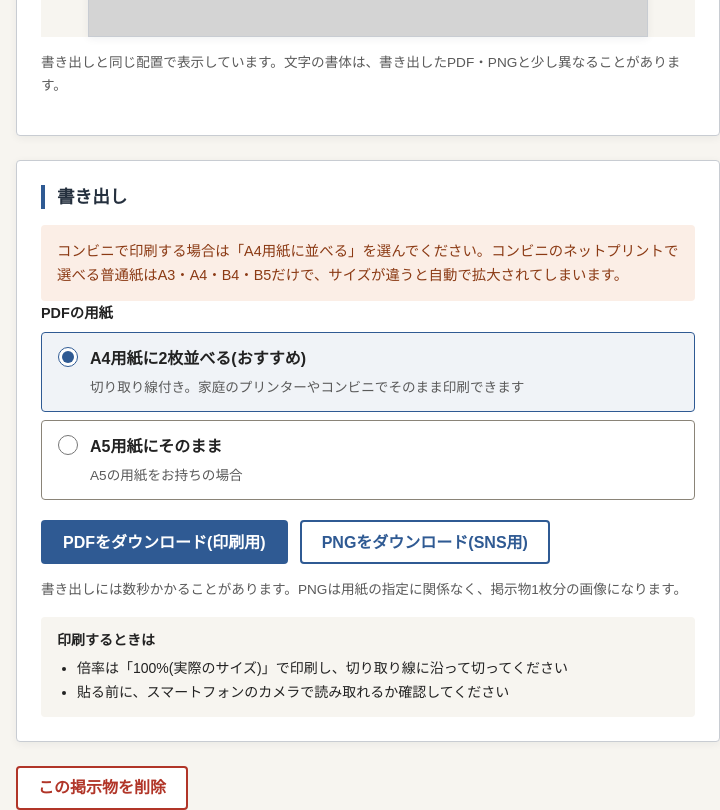
Test case: PosterEditorPage: 編集と書き出し › 書き出しに失敗した場合(429など)は、サーバーのエラー文言を表示する
The width and height of the screenshot is (720, 810).
(page scrolled)
Click the button "PDFをダウンロード(印刷用)" at (164, 542), box x1=41 y1=520 x2=288 y2=564
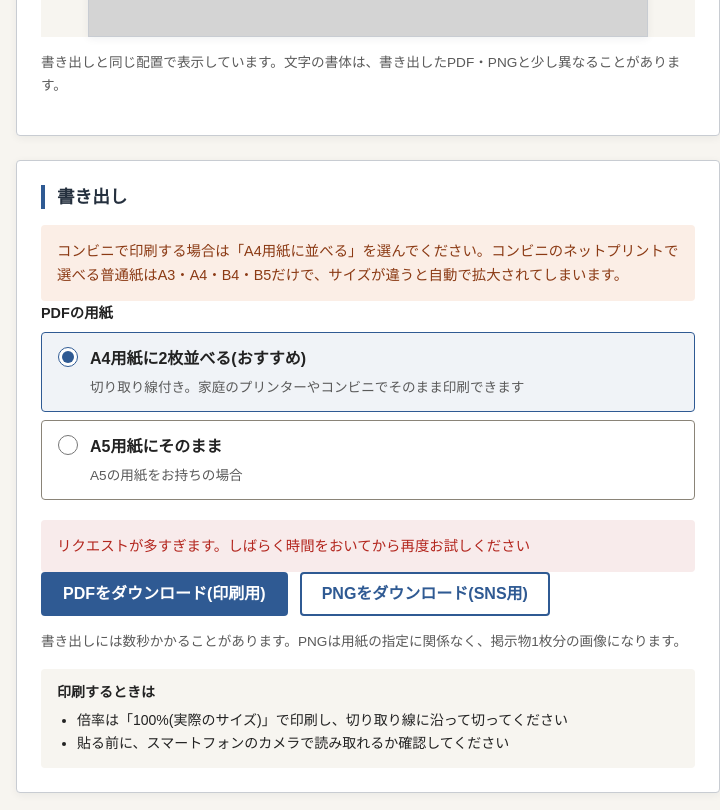
Check: the text "リクエストが多すぎます。しばらく時間をおいてから再度お試しください" is shown, box x1=41 y1=520 x2=695 y2=572
